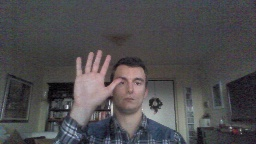Mano_aperta: (70, 48, 124, 105)
